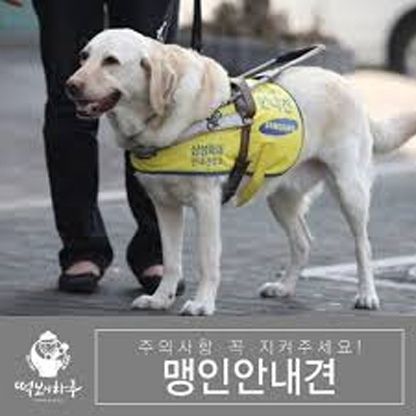guide-dog: (60, 23, 388, 314)
